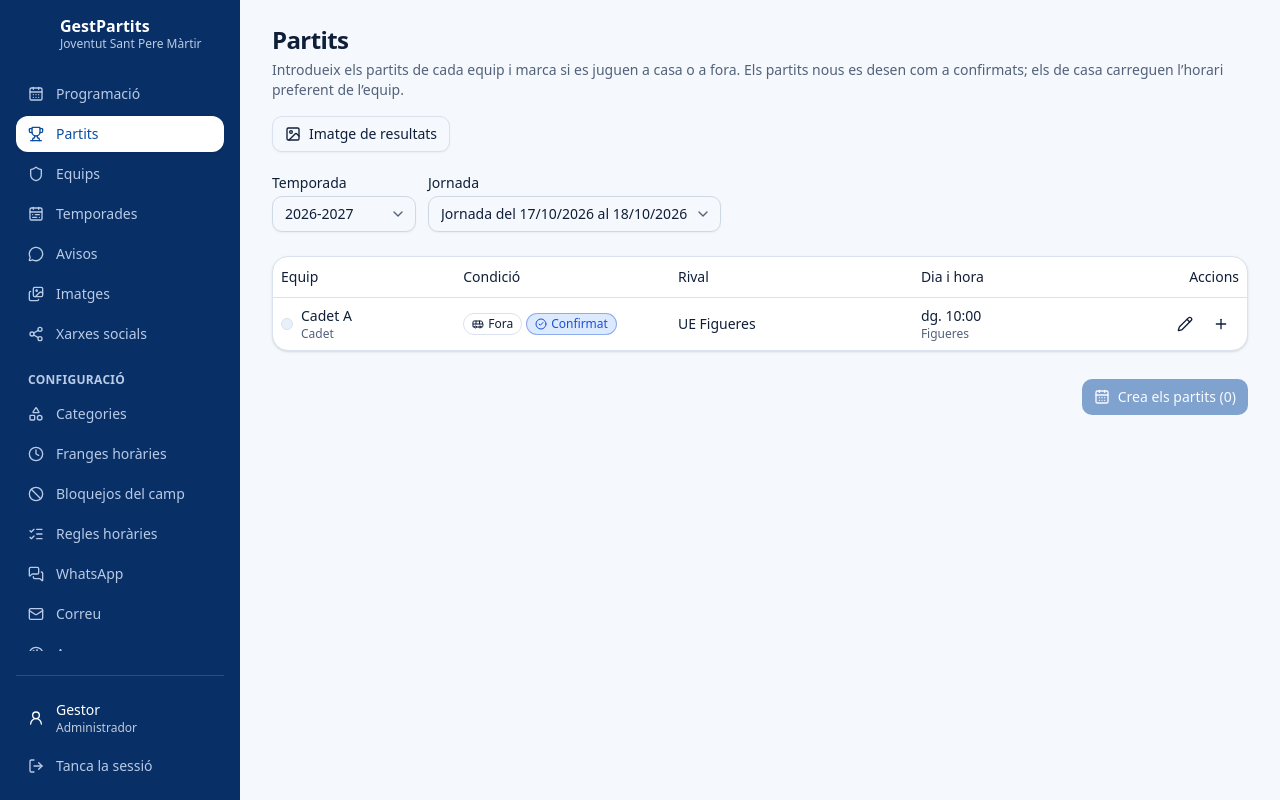
it: horari preferent des de la fitxa de l’equip › només hi ha els estats Proposat, Confirmat i Cancel·lat, i un partit nou és Confirmat
Click the button named "Afegeix un partit: Cadet A": {"x": 1221, "y": 324} [1203,306,1239,342]
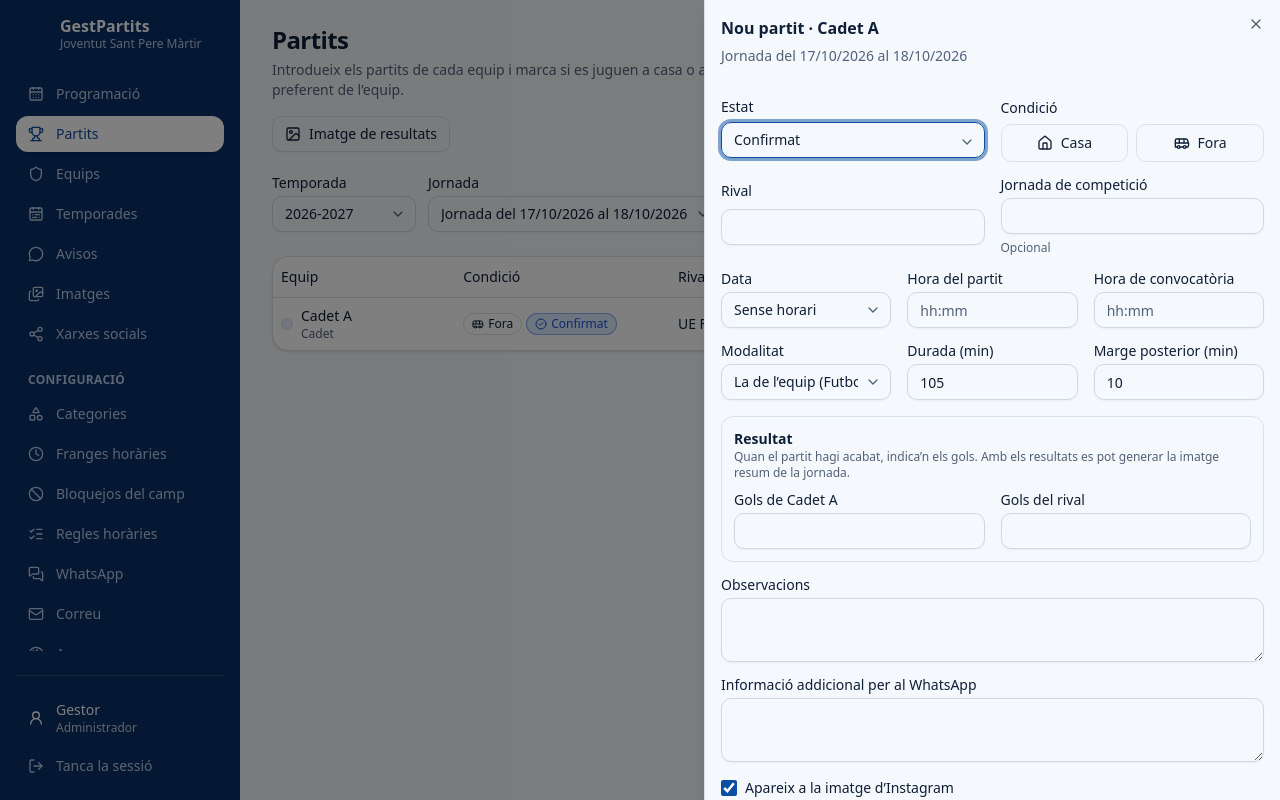
Expected: the dropdown labelled "Estat" shows "Confirmat", [721,122,984,158]
